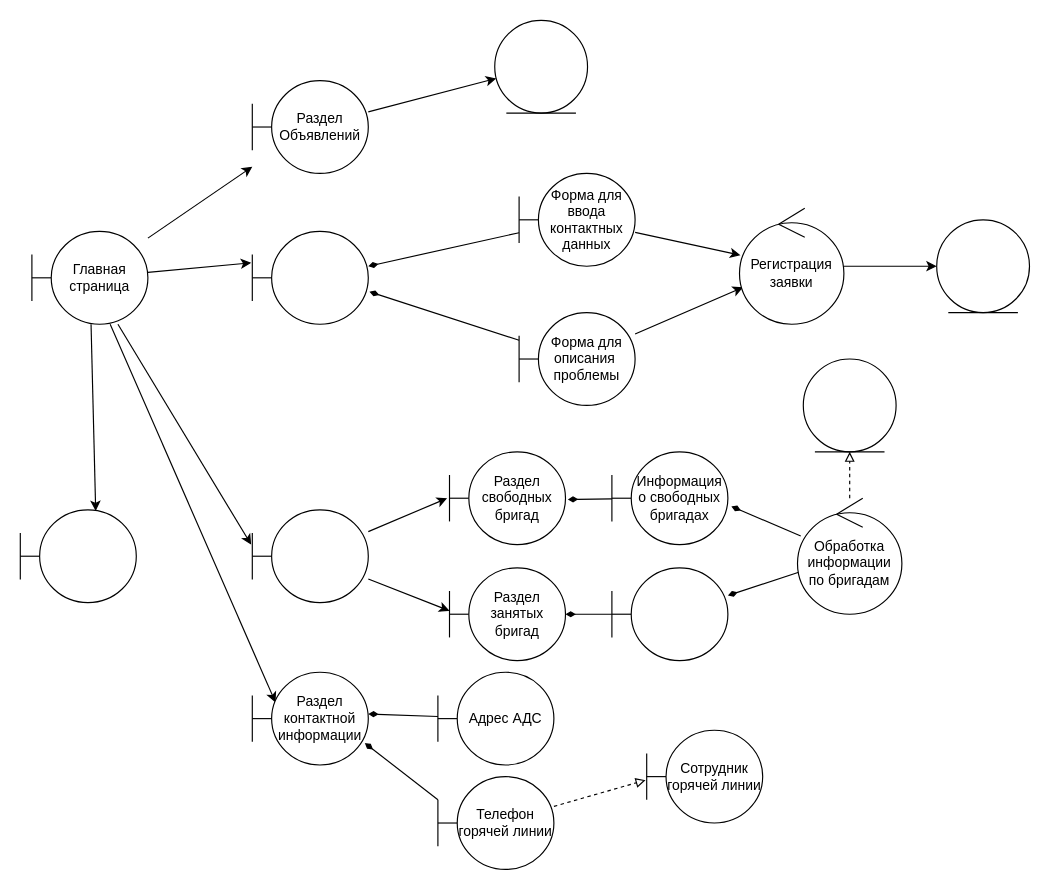
The diagram is 1050 pixels wide and 890 high, and some of its shapes have lost their labels. Here are the shapes that lost their labels. From the top down, the centre of each, then its label:
At pixel 541 66: "Объявления".
At pixel 309 277: "Раздел заявок".
At pixel 983 266: "Диспетчер".
At pixel 849 405: "Обновление данных".
At pixel 77 556: "Закрытие страницы".
At pixel 309 556: "Раздел бригад".
At pixel 669 614: "Информация о занятых бригадах".
